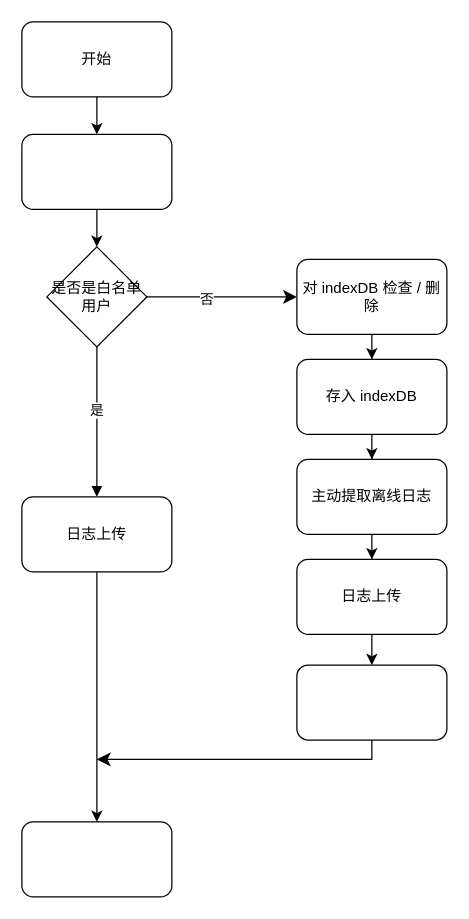
This 469x919 diagram has some shape labels left out. The shapes that lost their labels are listed below. From the top down, each one's centre as x and y in pixels, then its label:
At pixel 96 171: "数据开始上报".
At pixel 371 702: "清除 IndexDB".
At pixel 96 859: "结束".
